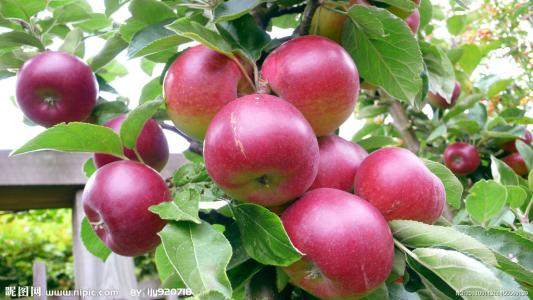apple: (203, 94, 321, 207), (17, 52, 98, 127)
obscured(0)_apple: (273, 187, 396, 299), (83, 162, 176, 257)
obscured(1)_apple: (261, 33, 360, 135), (162, 41, 261, 140), (352, 147, 447, 231)
